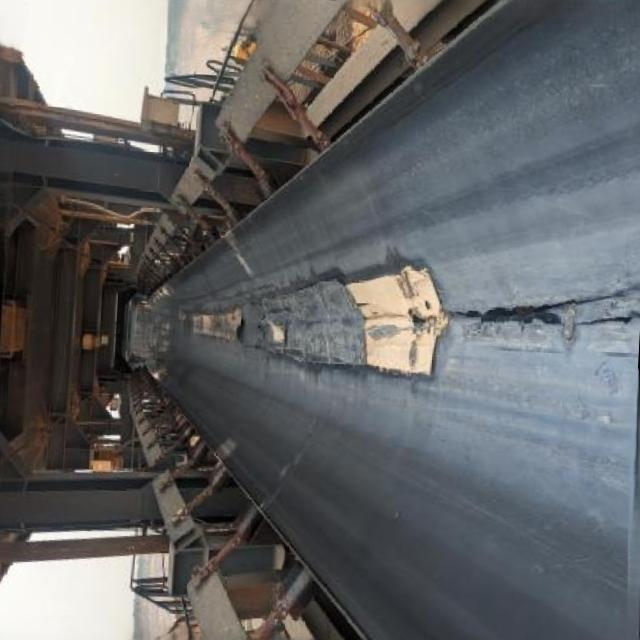Hole: (405, 310, 429, 334)
Tear: (445, 279, 640, 346)
